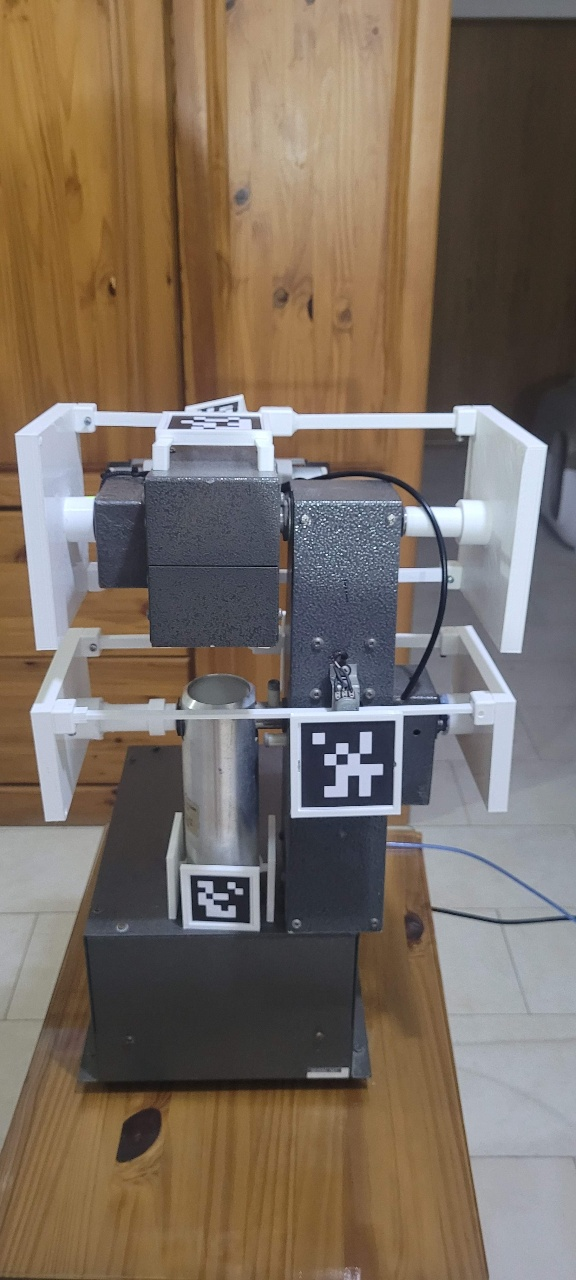Robot: (7, 430, 564, 1091)
